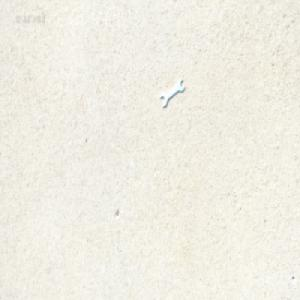Wrench: (161, 81, 185, 109)
